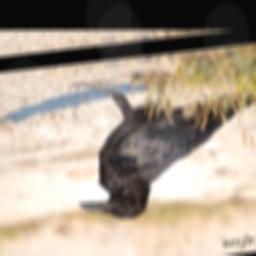Crow: (60, 58, 256, 226)
